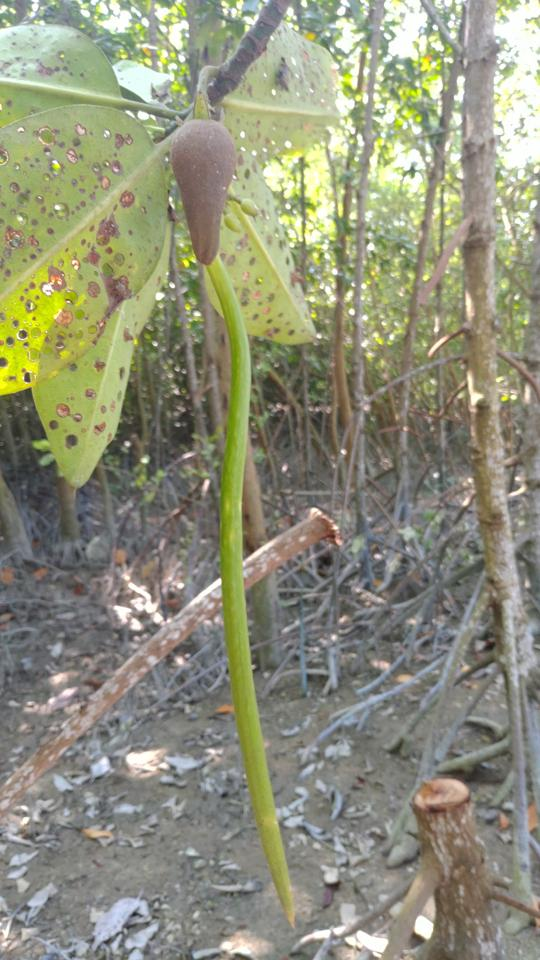mentah: (150, 74, 317, 945)
